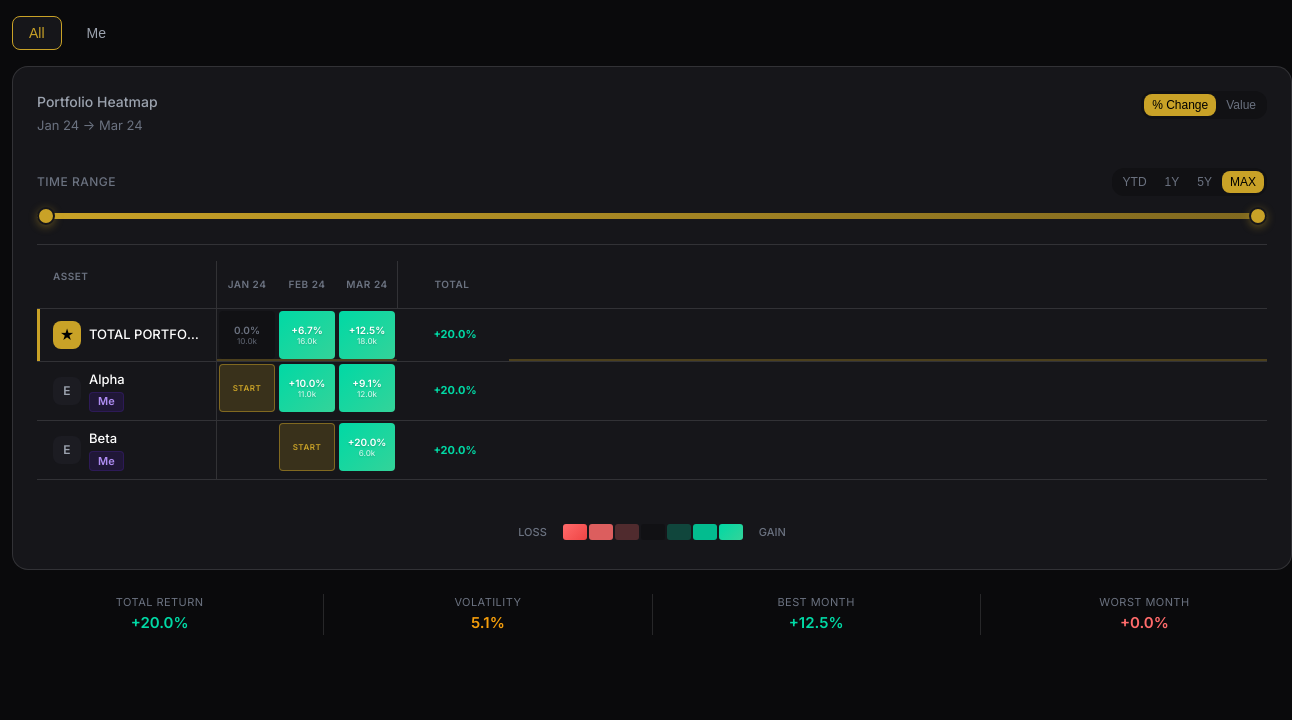
Test case: PortfolioHeatmap TOTAL PORTFOLIO row › final-month value and change equal the column sum of the per-asset cells
Click the button "Value". click: (1241, 105)
box: x1=1218 y1=94 x2=1264 y2=116
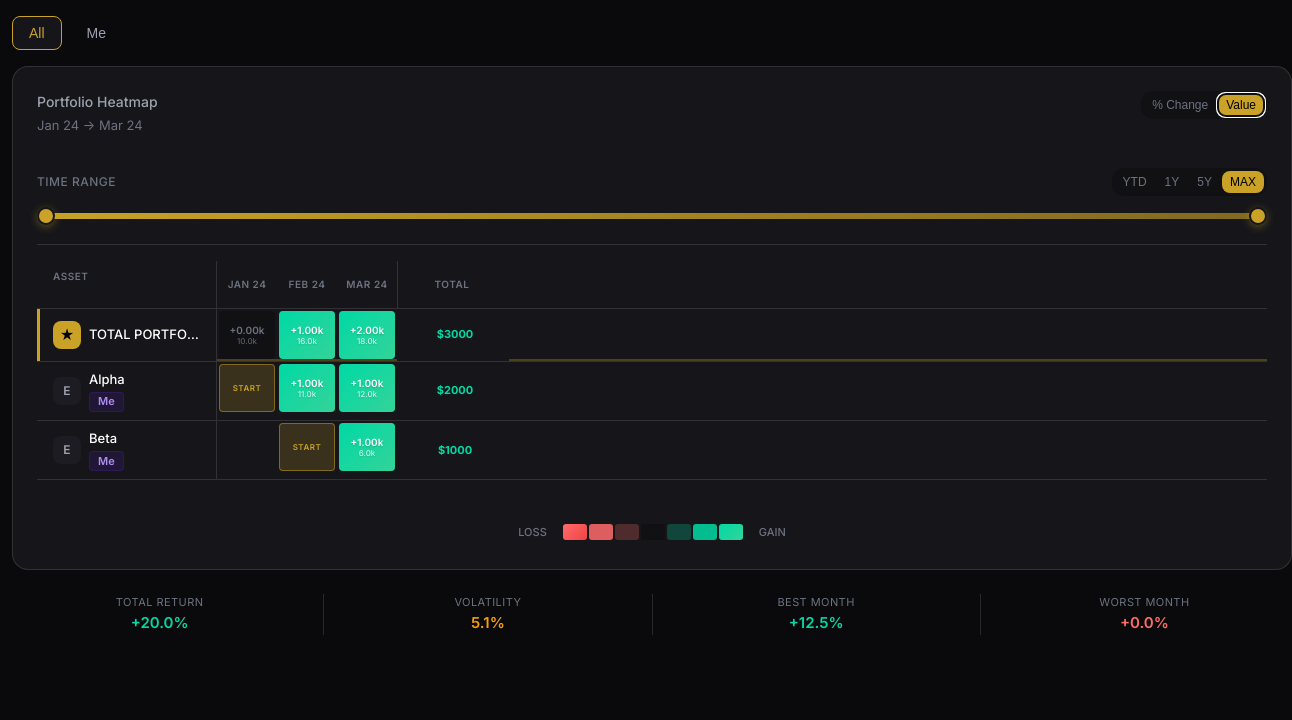
Check: the text with class "cell-value" reads "12.0k", box x1=357 y1=389 x2=377 y2=399
Check: the text "+1.00k" next to "+0.00k" is shown, box x1=291 y1=324 x2=323 y2=336
Check: the text with class "cell-change" reads "+2.00k", box x1=350 y1=324 x2=384 y2=336
